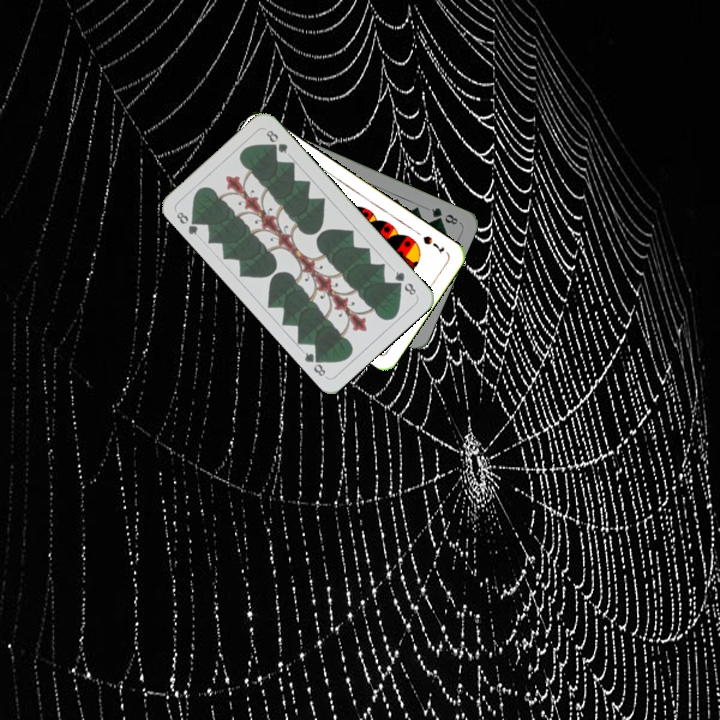G8: (172, 208, 202, 238), (390, 267, 419, 298), (427, 203, 462, 227)
S7: (419, 232, 447, 256)
